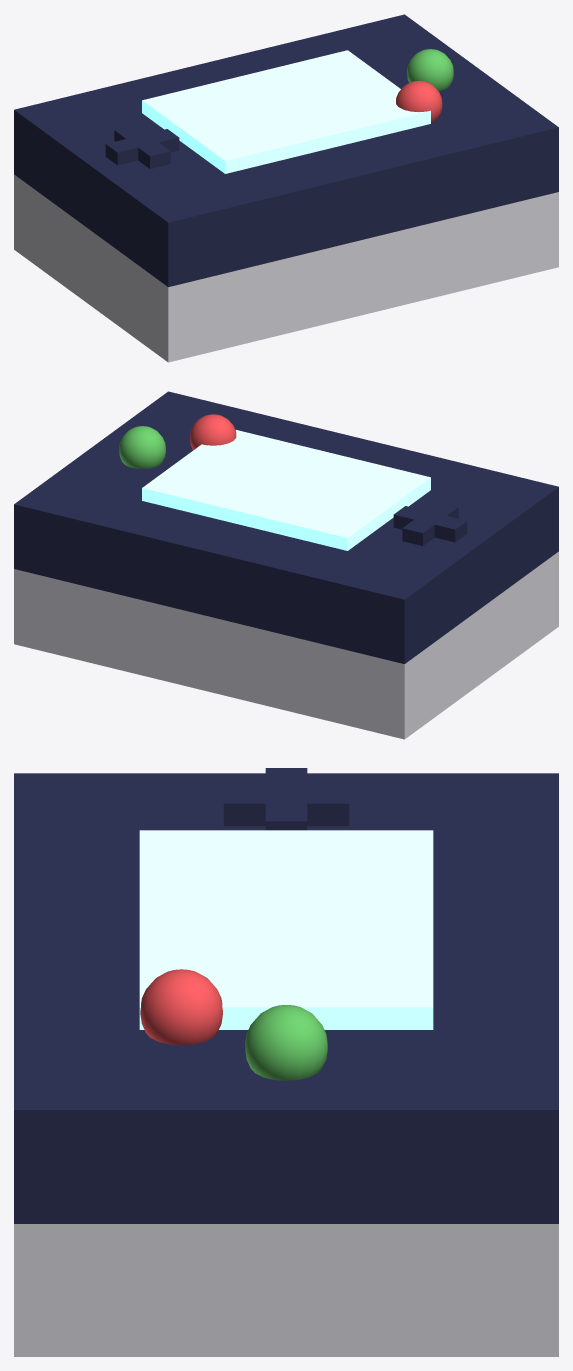
File: decor_fun_0.glb
3 renders of one model, top to bottom at view 1: azimuth 30°, elevation 25°; view 2: azimuth 150°, elevation 25°; view 3: azimuth 270°, elevation 25°, orthographic. The views are drawn at different scales.
Bounding box in the file's own units: 0.38 × 0.16 × 0.26.
